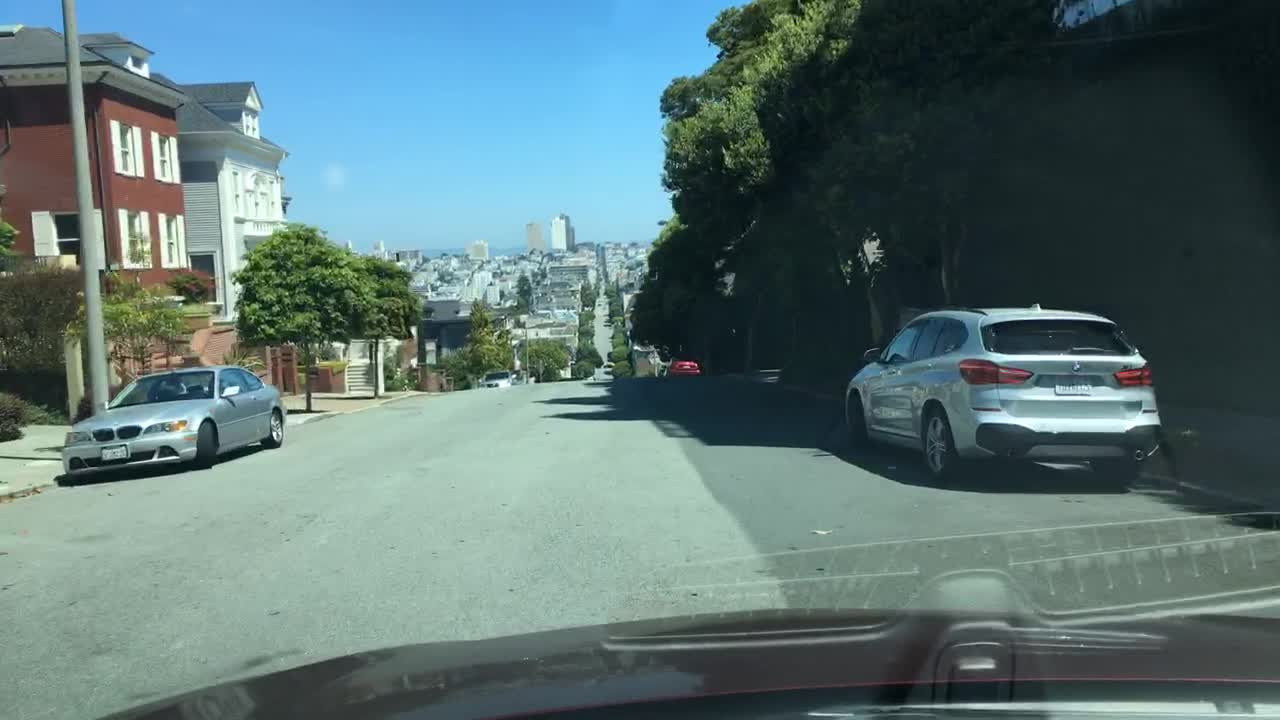car: (843, 301, 1164, 490), (59, 363, 288, 479), (476, 370, 511, 390), (670, 358, 702, 377), (510, 367, 528, 384)
